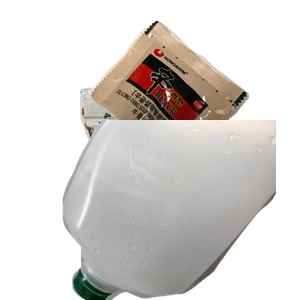cardboard: (77, 79, 251, 227)
glass: (78, 128, 298, 300)
plastic: (60, 120, 300, 300)
trash: (86, 18, 300, 194)
